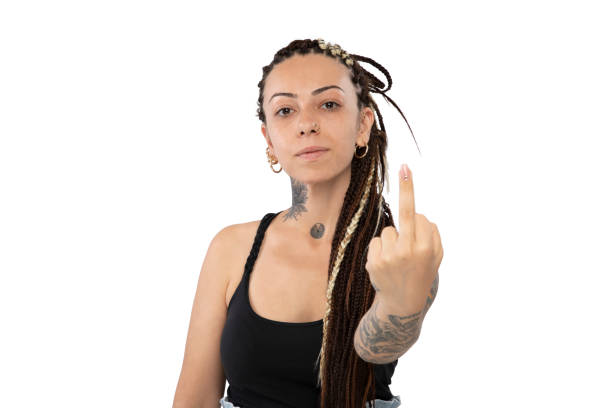insulting_gesture: (362, 160, 444, 301)
